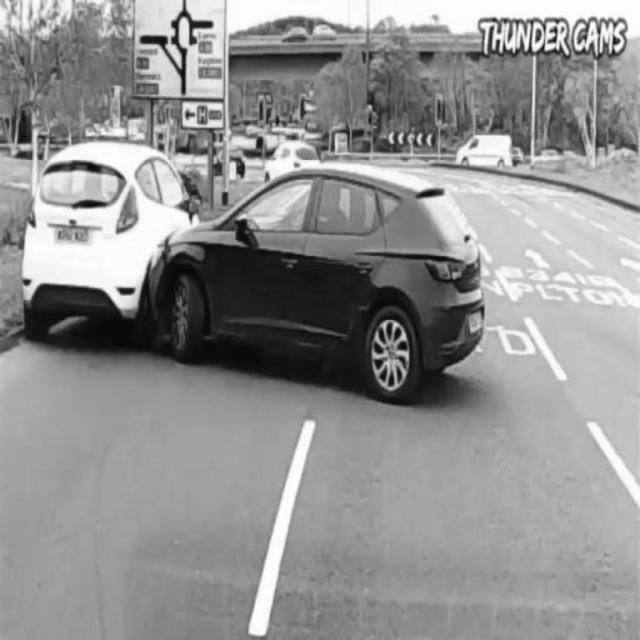accident: (25, 140, 487, 393)
vehicle: (260, 138, 324, 184), (455, 133, 517, 171)
